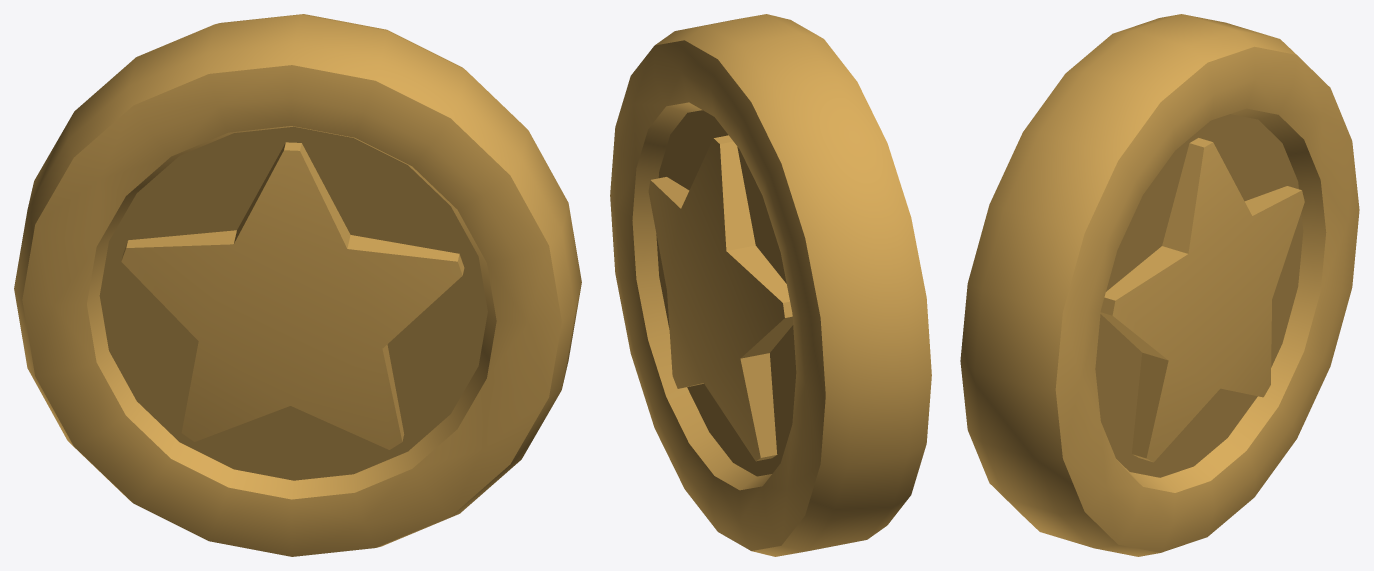
File: Coin_003.fbx
3 renders of one model, left to right at view 1: azimuth 30°, elevation 25°; view 2: azimuth 150°, elevation 25°; view 3: azimuth 270°, elevation 25°, orthographic. The views are drawn at different scales.
Parts seen in each view (by area): view 1: Coin.003; view 2: Coin.003; view 3: Coin.003.
Part boxes in pixels (bbox=[...]): Coin.003: bbox=[14, 14, 581, 556]; Coin.003: bbox=[610, 14, 931, 556]; Coin.003: bbox=[960, 14, 1359, 556].
Bounding box in the file's own units: 113 × 125 × 91.73.
